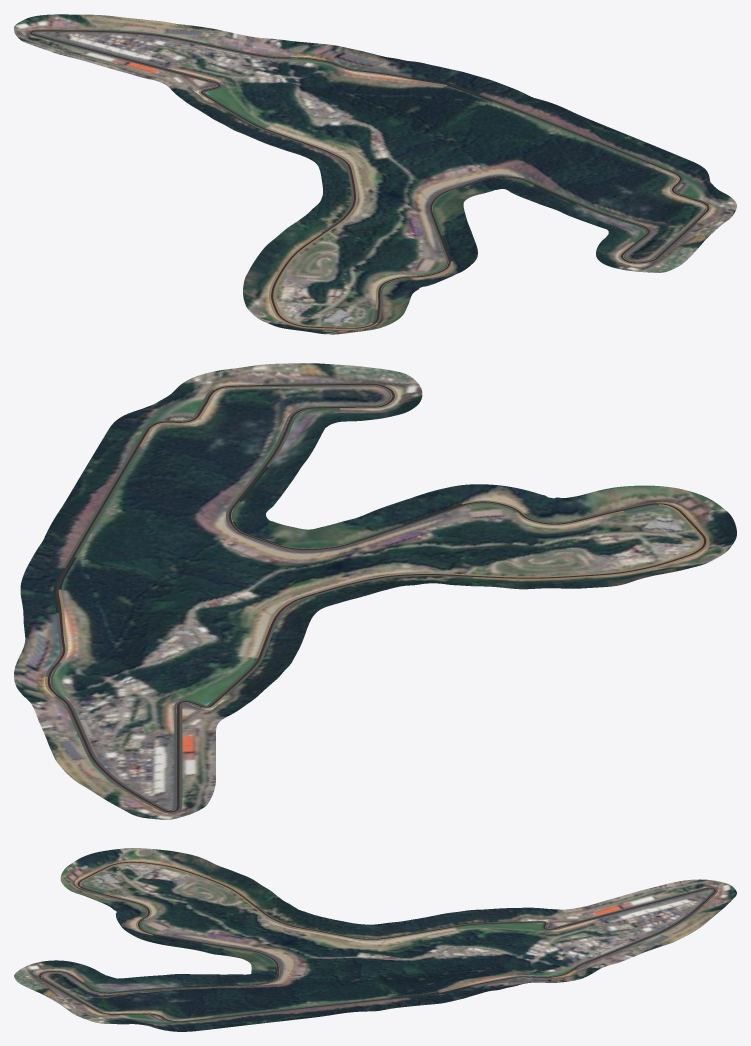
Rendered from spa.dae.
3 renders of one model, top to bottom at view 1: azimuth 30°, elevation 25°; view 2: azimuth 150°, elevation 25°; view 3: azimuth 270°, elevation 25°, orthographic. The views are drawn at different scales.
Parts seen in each view (by area): view 1: spa; view 2: spa; view 3: spa.
Boxes of the visible parts, bbox=[...] form: spa: bbox=[14, 14, 736, 334]; spa: bbox=[14, 363, 736, 819]; spa: bbox=[14, 848, 736, 1031].
Bounding box in the file's own units: 2232 × 3468 × 122.
Materials: 14 (14 with a texture image).
